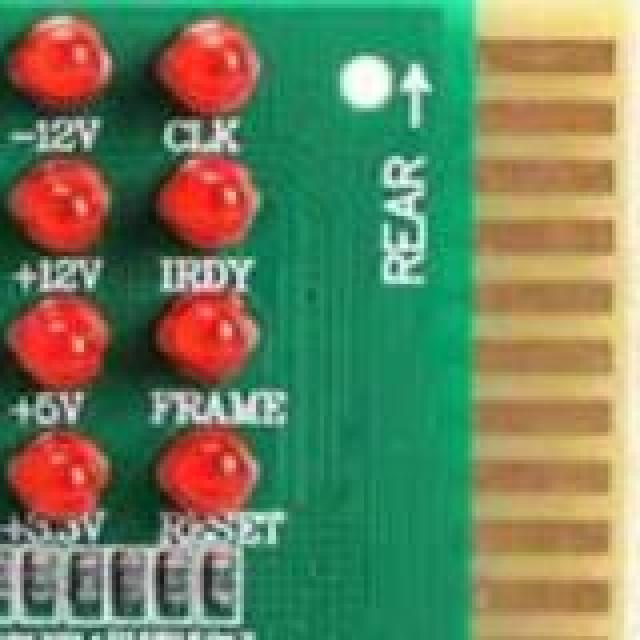LED: (156, 144, 262, 250), (156, 432, 266, 526), (152, 20, 258, 112), (8, 144, 100, 250), (8, 24, 106, 116), (12, 292, 106, 382), (168, 300, 254, 392), (20, 436, 102, 516)
resistor: (152, 544, 186, 606), (76, 552, 108, 616), (204, 552, 238, 604), (24, 556, 50, 608), (120, 552, 144, 608), (0, 548, 8, 604)
